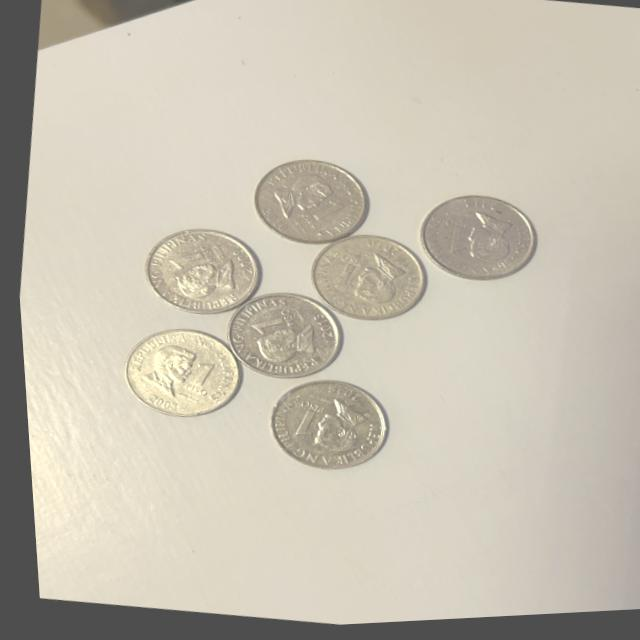1_Old_Front: (239, 307, 301, 347), (292, 193, 343, 238), (161, 244, 219, 283), (175, 356, 218, 406), (327, 255, 365, 301), (434, 220, 473, 264), (286, 402, 324, 446)
